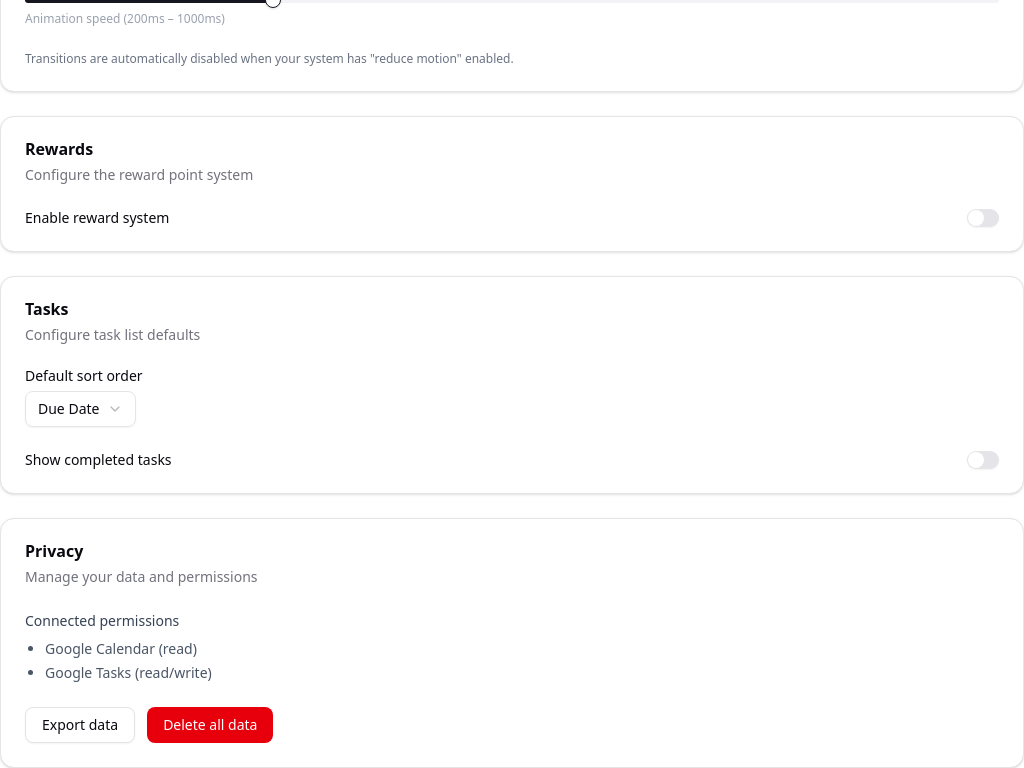
Scenario: SettingsForm — updateTaskSettings rollback (#413) › preserves a concurrent successful task-settings PUT when an earlier PUT fails
The image size is (1024, 768).
(page scrolled)
PUT #1 — toggle showCompletedTasks on.
Click the switch named "show completed tasks" in the row of "Show completed tasks" at (983, 460), box [967, 451, 999, 470]
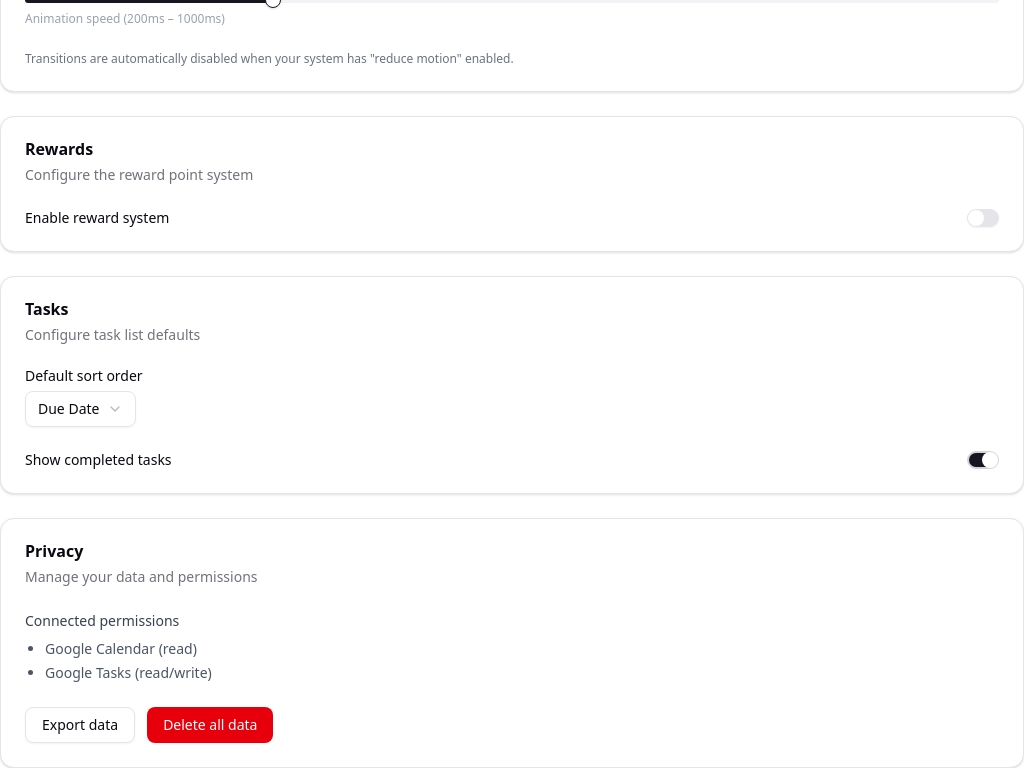
Result: the switch named "show completed tasks" in the row of "Show completed tasks" has attribute data-state="checked" at [967, 451, 999, 470]
Click the dropdown at (81, 409), box [25, 391, 136, 427]
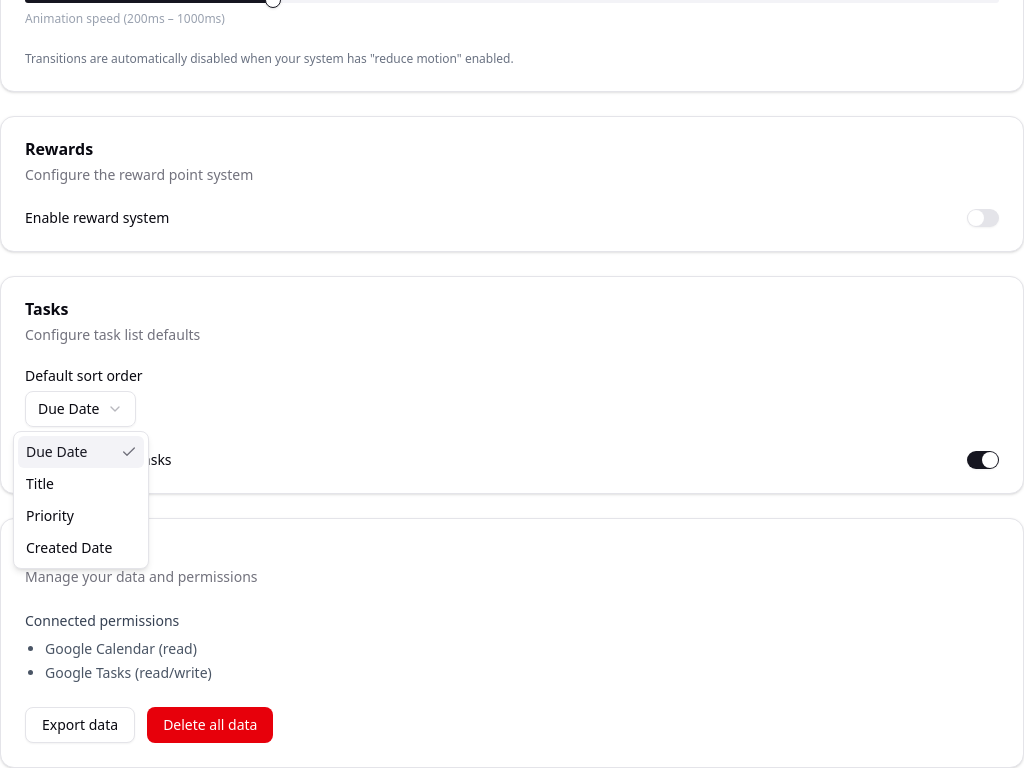
Click the option "Priority" at (50, 516), box [26, 506, 74, 525]
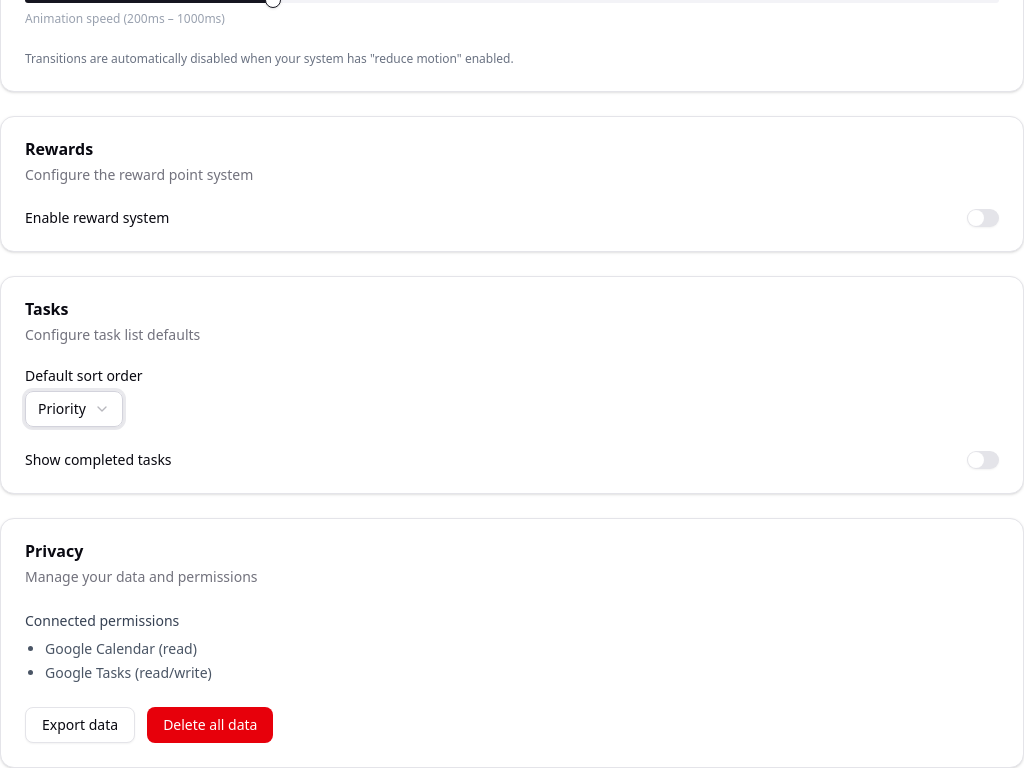
Result: the dropdown reads "Priority" at [25, 391, 123, 427]
Result: the dropdown no longer shows "Due Date" at [25, 391, 123, 427]
